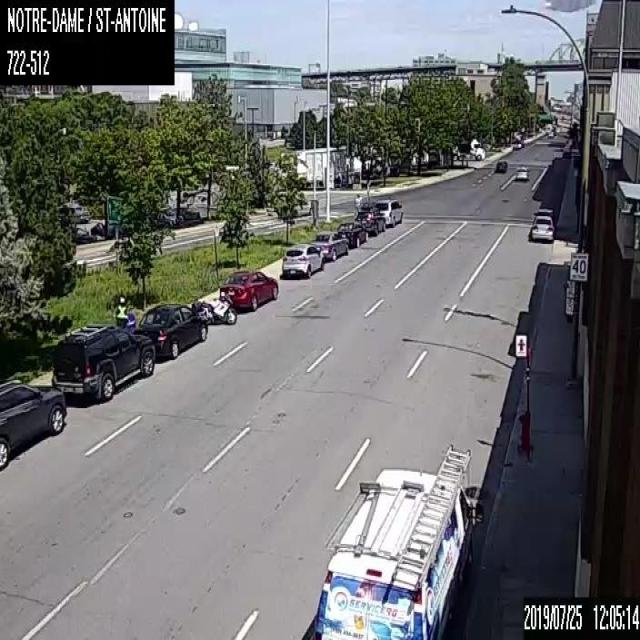pedestrian: (114, 293, 128, 331), (352, 192, 363, 209)
vehicle: (312, 443, 476, 639), (52, 324, 154, 399), (0, 377, 65, 469), (137, 302, 207, 359), (218, 268, 278, 310), (282, 242, 324, 276), (193, 290, 236, 323), (312, 229, 348, 260), (372, 196, 403, 226), (354, 207, 384, 234), (337, 221, 367, 247), (530, 214, 554, 241), (532, 207, 554, 221), (515, 165, 528, 180), (495, 159, 507, 172)
